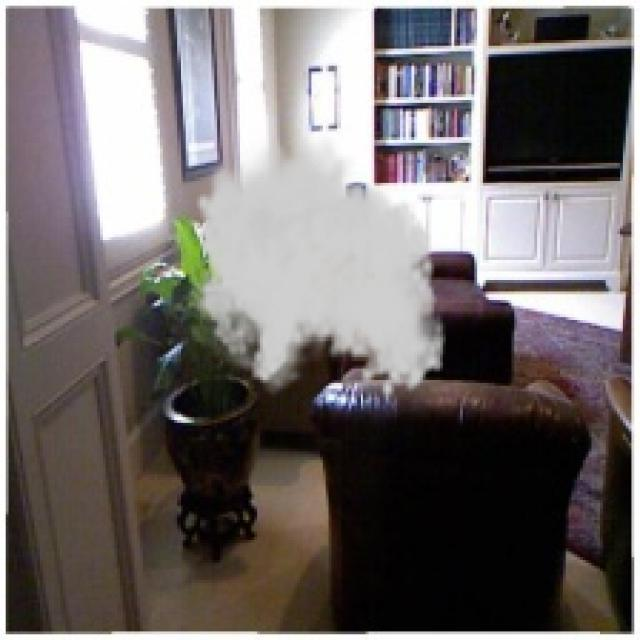smoke: (180, 129, 449, 400)
